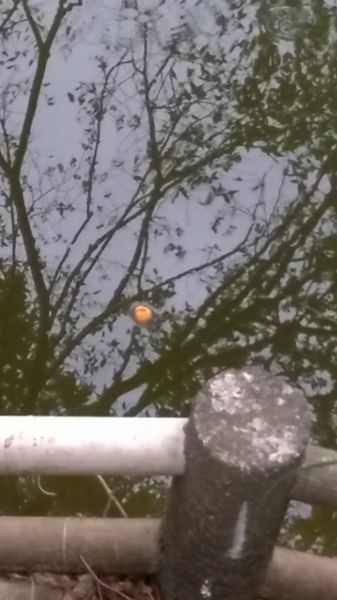eggs: (129, 299, 159, 325)
